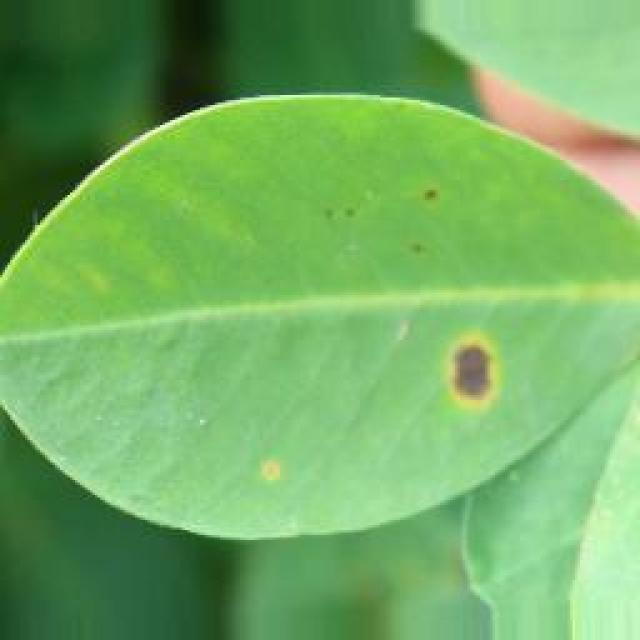Early_leaf_spot: (406, 305, 514, 435), (343, 156, 453, 259)
